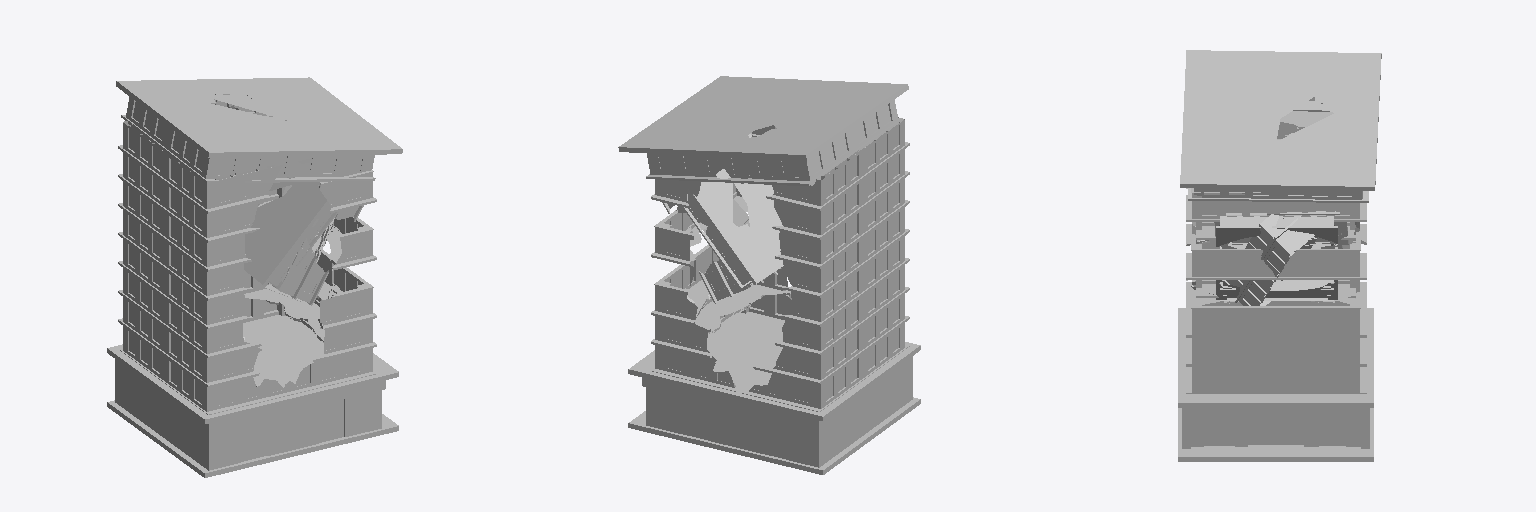
The model's file is Building 3.obj.
3 renders of one model, left to right at view 1: azimuth 30°, elevation 25°; view 2: azimuth 150°, elevation 25°; view 3: azimuth 270°, elevation 25°, orthographic.
Visible parts, largest first — view 1: BuildingC_Cube_Cube.001; view 2: BuildingC_Cube_Cube.001; view 3: BuildingC_Cube_Cube.001.
Boxes of the visible parts, <box> form: BuildingC_Cube_Cube.001: <box>107,77,402,477</box>; BuildingC_Cube_Cube.001: <box>618,76,920,474</box>; BuildingC_Cube_Cube.001: <box>1178,50,1381,461</box>.
Bounding box in the file's own units: 2.41 × 3.62 × 2.08.